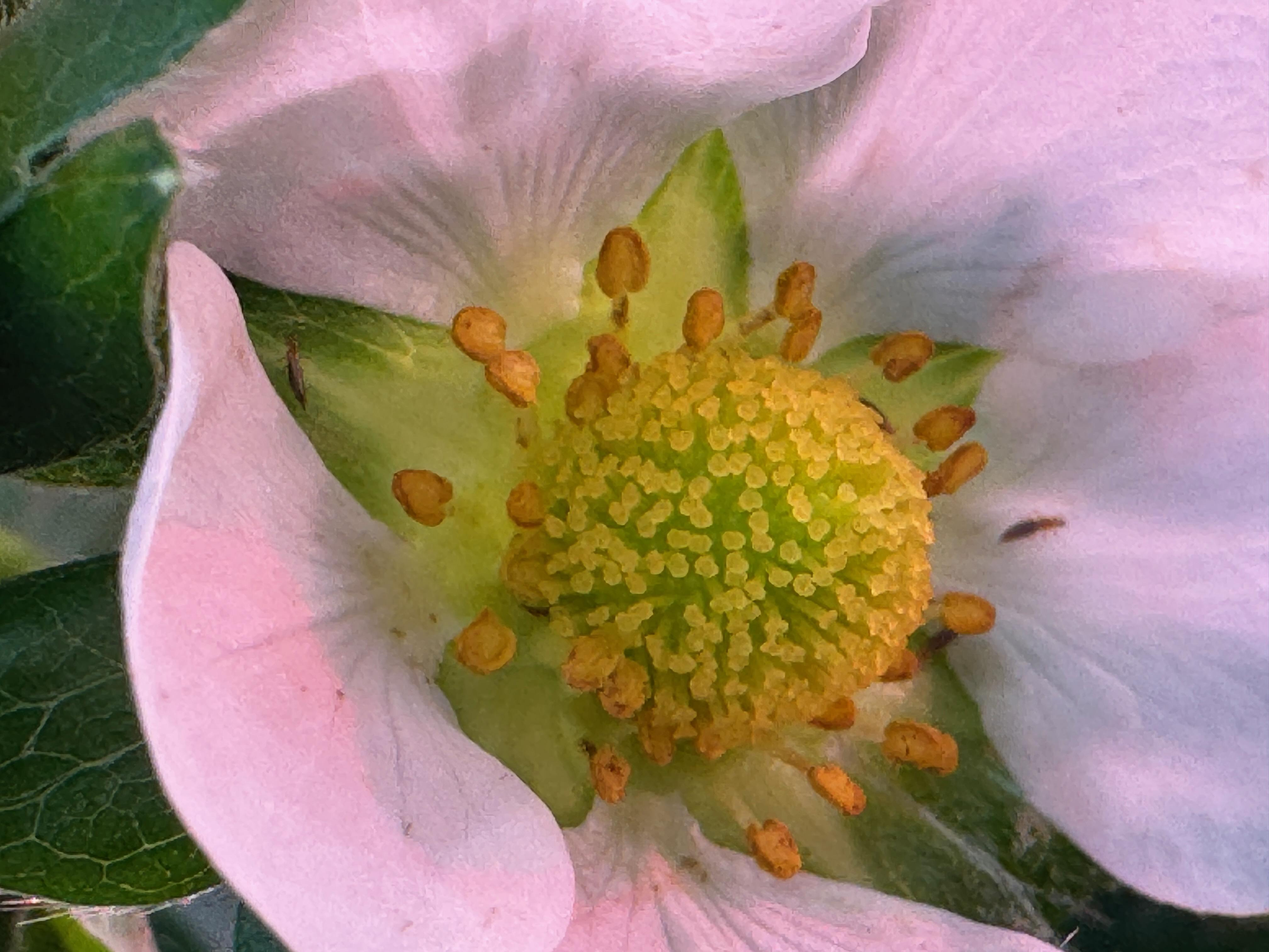tiny_pests: (271, 313, 326, 436), (988, 499, 1076, 560)
